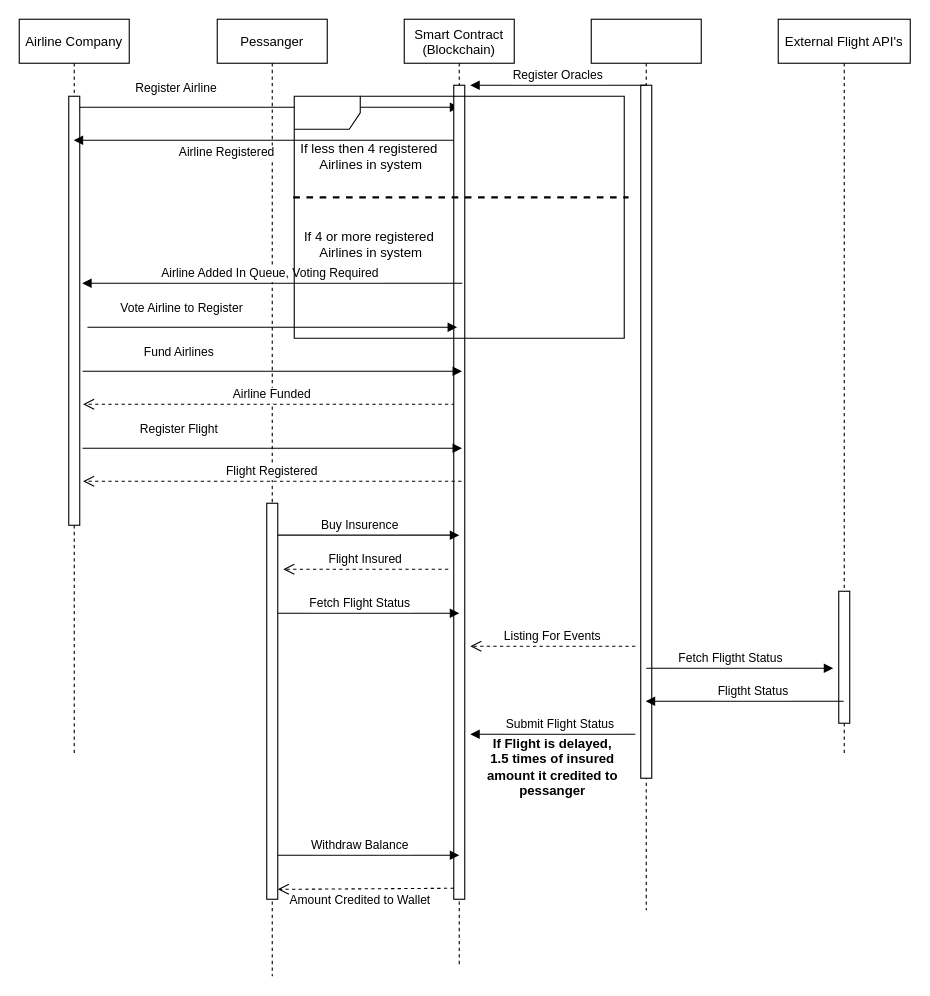
Some shapes in this 930 by 996 pixel diagram are drawn without their labels. The shapes that lost their labels are listed below. From the top down, each one's box as (x1, y1, x2, y2) in pixels, then its label:
(293, 95, 624, 338): frame
(590, 18, 701, 910): Oracles
